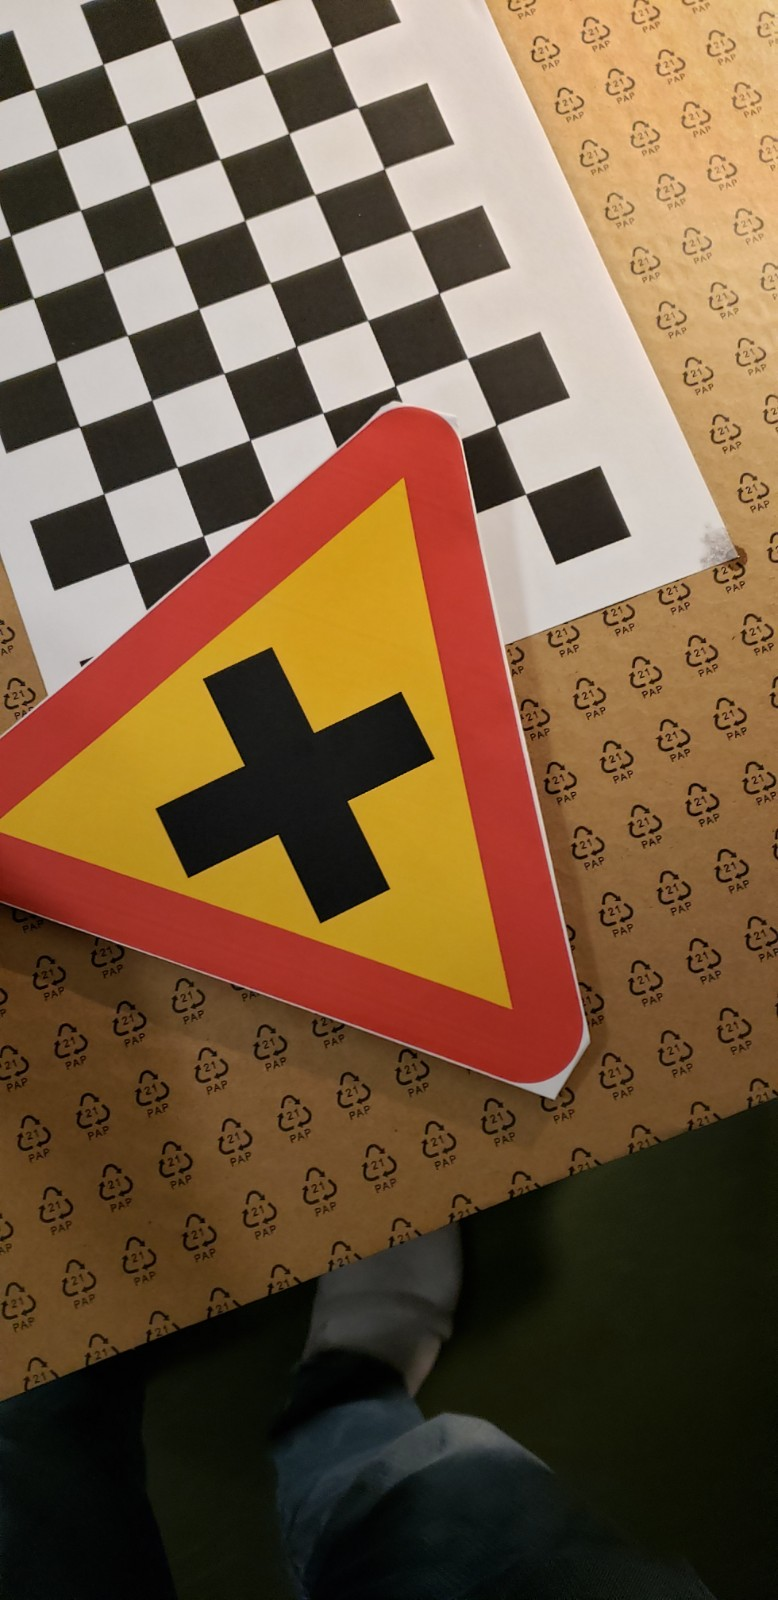junction: (13, 354, 614, 1123)
